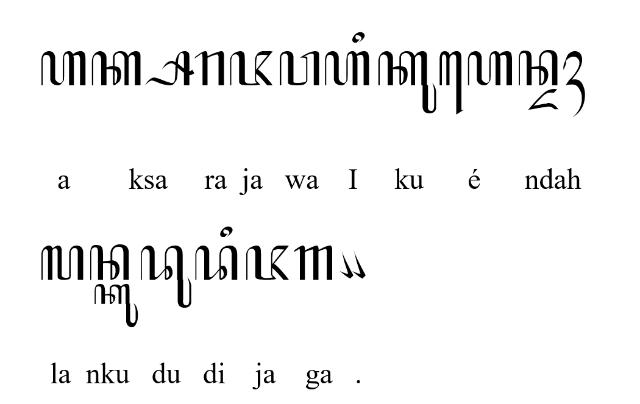_d: (528, 88, 558, 110)
_h1: (562, 50, 586, 117)
_s: (144, 50, 194, 86)
d: (194, 246, 238, 280)
du: (140, 246, 192, 308)
e1: (438, 51, 464, 115)
g: (294, 246, 332, 280)
h: (40, 50, 86, 86), (324, 50, 370, 86), (468, 50, 512, 86)
i: (352, 32, 366, 44), (220, 226, 232, 238)
j: (245, 245, 289, 281), (230, 50, 272, 86)
k: (91, 50, 141, 86)
kom: (339, 251, 353, 279), (352, 250, 366, 278)
ku: (378, 50, 437, 114), (94, 284, 138, 328)
l: (41, 246, 84, 280)
n: (518, 50, 558, 86), (90, 244, 130, 280)
r: (195, 50, 225, 86)
w: (279, 50, 319, 86)
